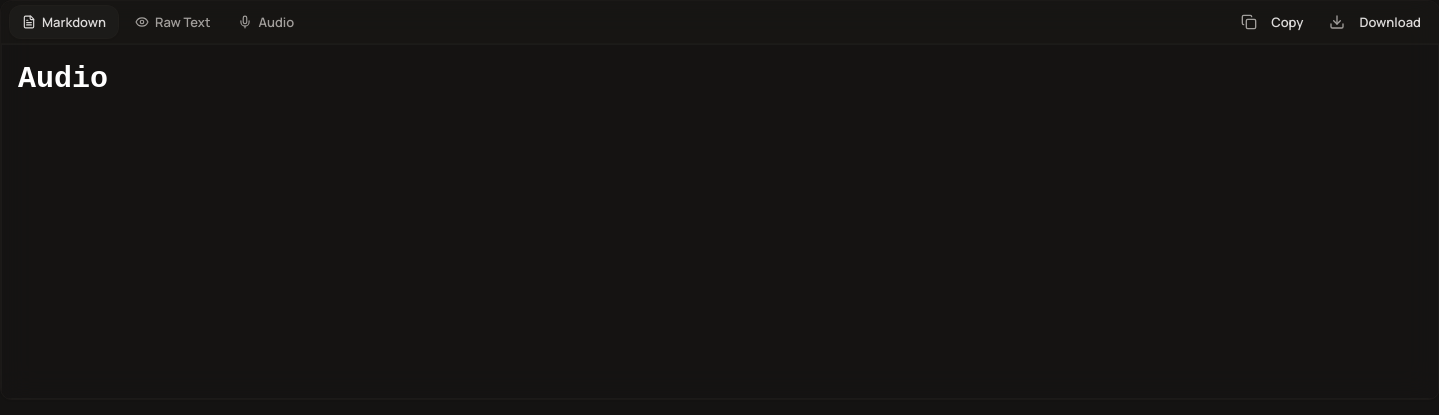
OutputViewer component › renders an audio inspection tab when audio metadata is available
The image size is (1439, 415).
Click the button "Audio". click: point(266, 22)
box: [226, 5, 306, 39]
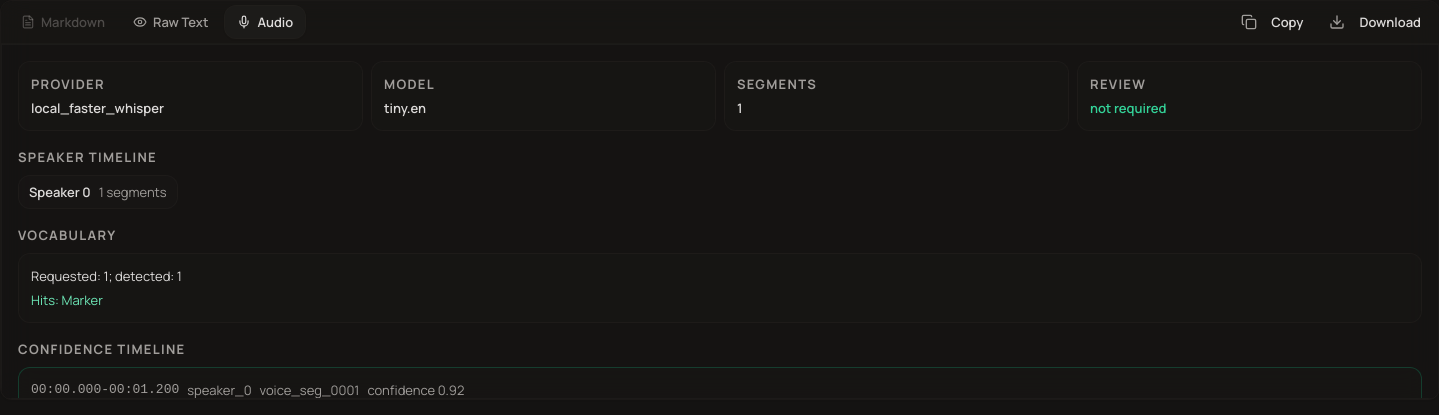
Expected: the heading "Confidence Timeline" is shown, [18, 340, 186, 358]
Expected: the text "local_faster_whisper" is shown, [31, 99, 164, 117]
Expected: the text "Hits: Marker" is shown, [31, 291, 103, 309]
